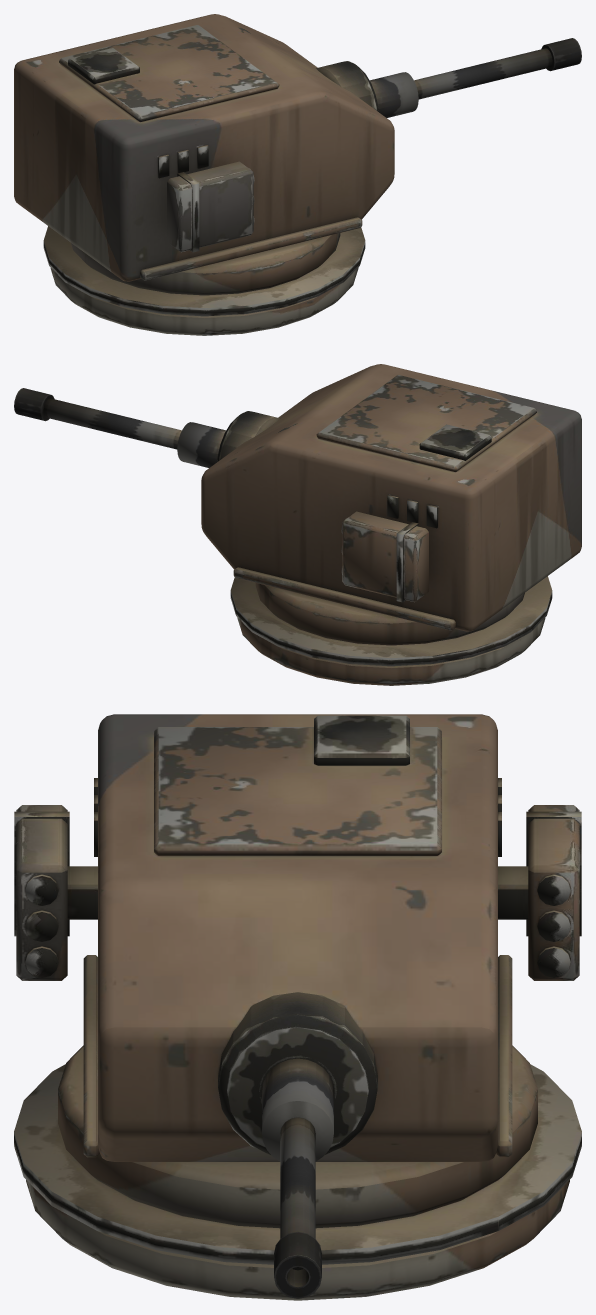
File: turret_grach_t1_rock.glb
The picture shows the model from 3 angles, top to bottom: view 1: azimuth 30°, elevation 25°; view 2: azimuth 150°, elevation 25°; view 3: azimuth 270°, elevation 25°; orthographic projection. The views are drawn at different scales.
Visible parts, largest first — view 1: turret_light_t1, guns, pods; view 2: turret_light_t1, guns, pods; view 3: turret_light_t1, guns, pods.
Part boxes in pixels (x1,y1,x2,y2): turret_light_t1: [14, 14, 394, 335]; guns: [316, 38, 581, 117]; pods: [167, 161, 254, 252]; turret_light_t1: [201, 364, 581, 685]; guns: [14, 388, 279, 467]; pods: [341, 511, 428, 602]; turret_light_t1: [14, 714, 581, 1300]; guns: [218, 992, 377, 1298]; pods: [14, 805, 581, 980].
Size of the model in its own units: 1.14 by 0.4664 by 0.6248.
3 materials, 3 textured.
